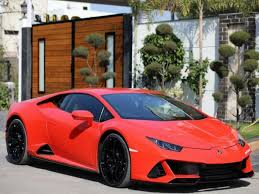Lamborghini: (4, 89, 254, 186)
